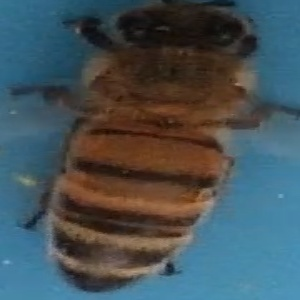bee: (10, 2, 295, 294)
